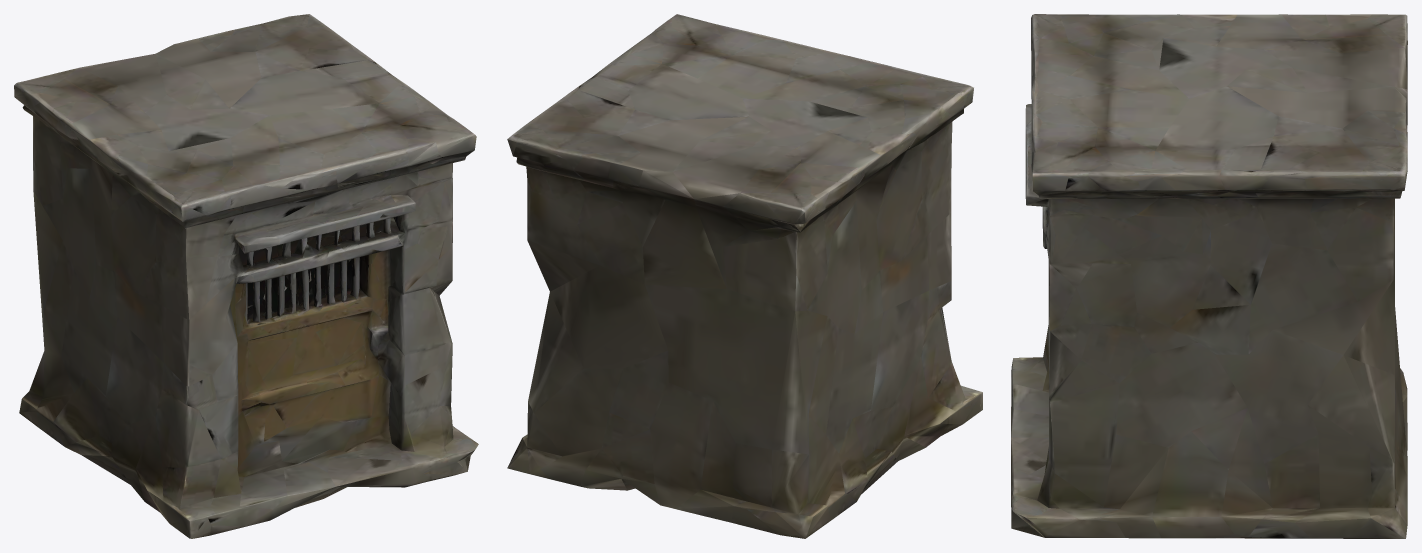
The model's file is poi_dungeon.glb.
3 renders of one model, left to right at view 1: azimuth 30°, elevation 25°; view 2: azimuth 150°, elevation 25°; view 3: azimuth 270°, elevation 25°, orthographic. The views are drawn at different scales.
Parts seen in each view (by area): view 1: Dungeon entrance; view 2: Dungeon entrance; view 3: Dungeon entrance.
Part boxes in pixels (x1,y1,x2,y2): Dungeon entrance: (14,14,478,538); Dungeon entrance: (507,14,982,538); Dungeon entrance: (1011,14,1407,538).
Bounding box in the file's own units: 1.89 × 2 × 1.96.
Materials: 1 (1 with a texture image).
